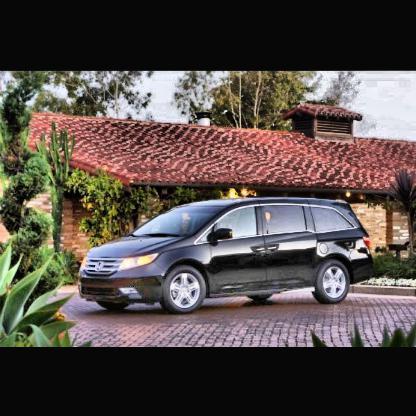Honda Odyssey Minivan 2012: (78, 197, 377, 317)
